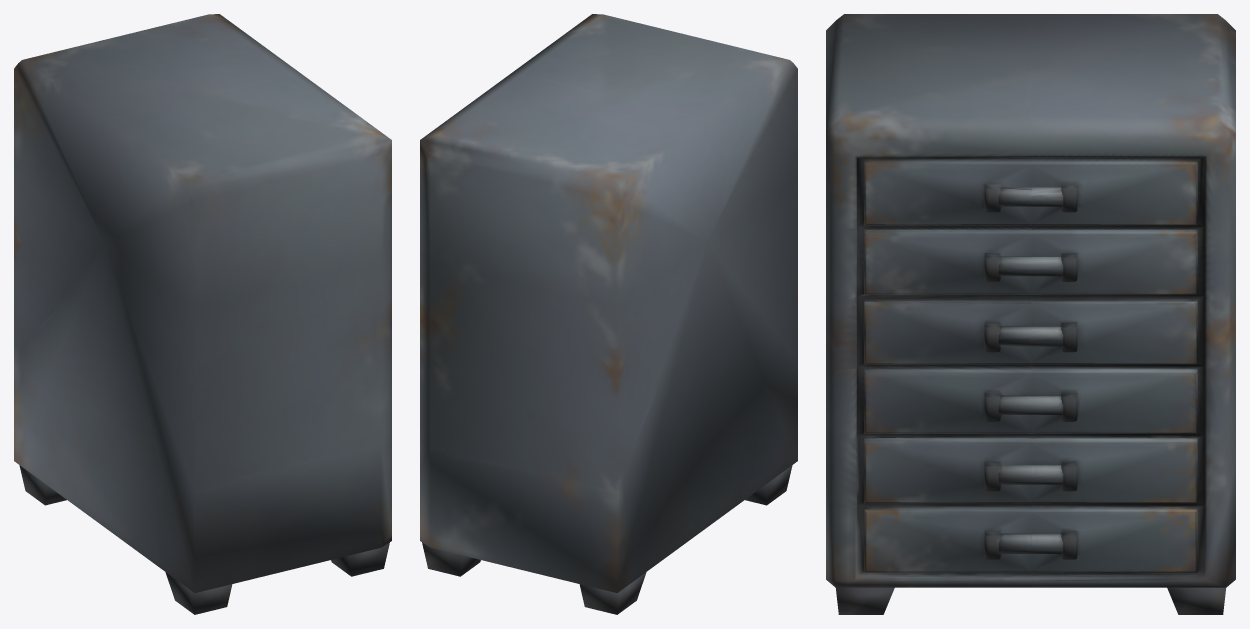
The model's file is drawer_cabinet.glb.
3 views of the same model, side by side, from view 1: azimuth 30°, elevation 25°; view 2: azimuth 150°, elevation 25°; view 3: azimuth 270°, elevation 25° (orthographic). The views are drawn at different scales.
Parts seen in each view (by area): view 1: tripo_node_5441c467-a332-445d-97d2-781218ba034f; view 2: tripo_node_5441c467-a332-445d-97d2-781218ba034f; view 3: tripo_node_5441c467-a332-445d-97d2-781218ba034f.
Boxes of the visible parts, left/top/right/bottom form: tripo_node_5441c467-a332-445d-97d2-781218ba034f: left=14, top=14, right=391, bottom=614; tripo_node_5441c467-a332-445d-97d2-781218ba034f: left=420, top=14, right=797, bottom=614; tripo_node_5441c467-a332-445d-97d2-781218ba034f: left=826, top=14, right=1235, bottom=614.
Bounding box in the file's own units: 0.5098 × 0.998 × 0.752.
1 material, 1 textured.
